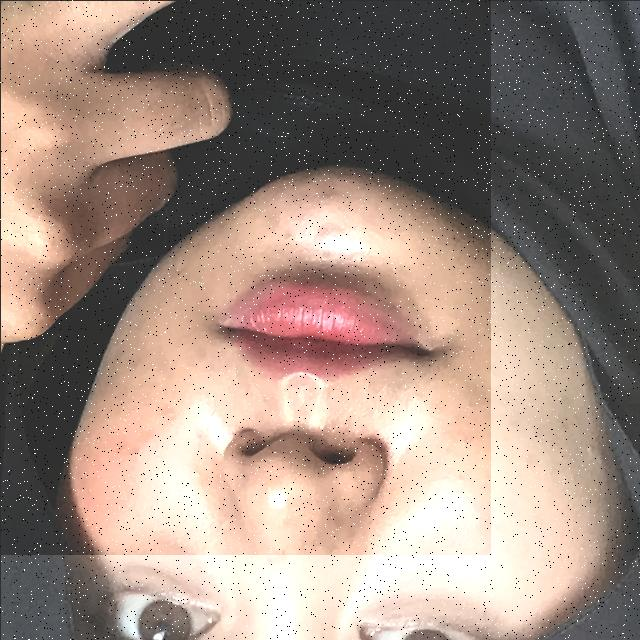telpon: (0, 0, 490, 554)
